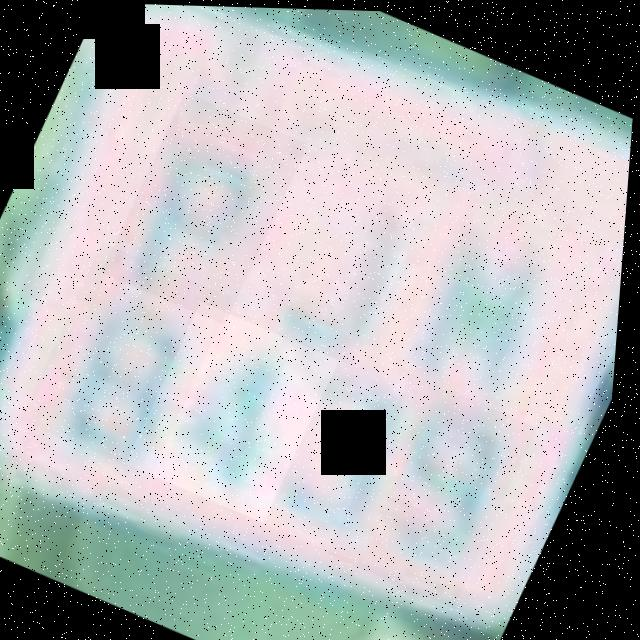3: (224, 338, 442, 562)
4: (130, 299, 347, 523)
9: (332, 370, 547, 607)
B: (374, 198, 600, 437), (23, 240, 241, 477)
P: (102, 89, 313, 325)
